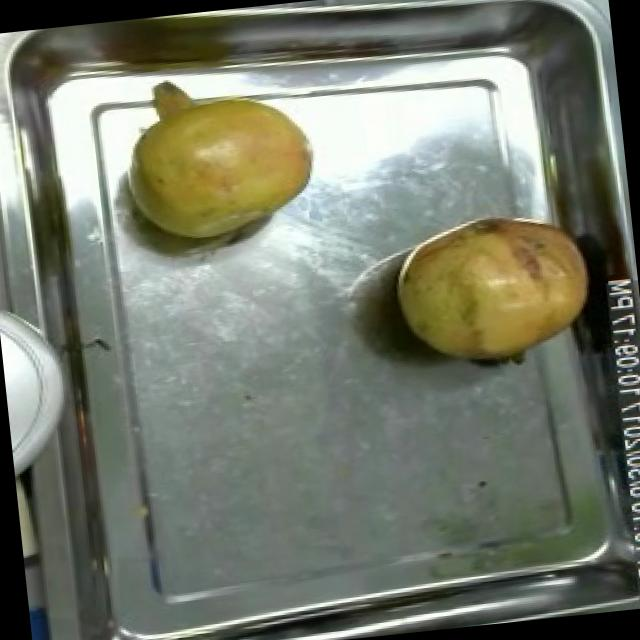fruit: (112, 75, 333, 254), (380, 204, 603, 380)
